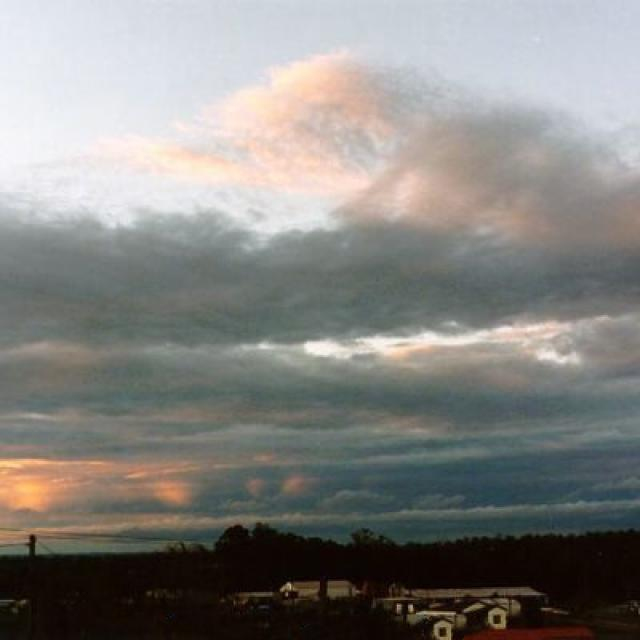Sc: (4, 69, 640, 477)
